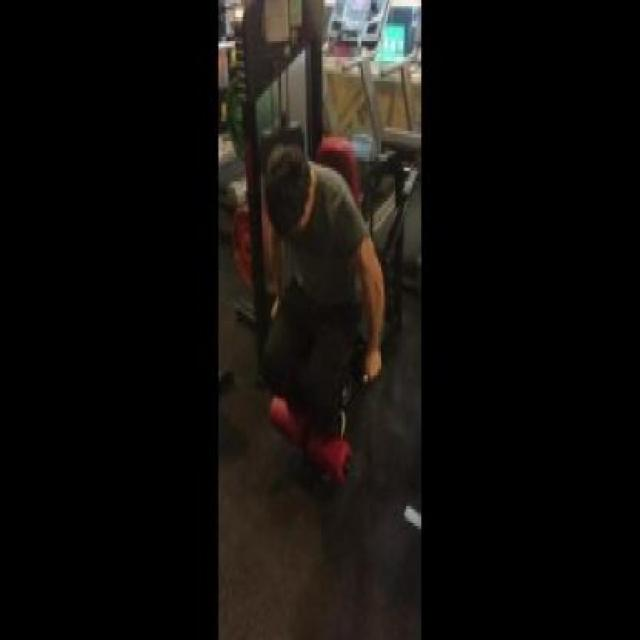seated dip machine: (226, 2, 442, 509)
